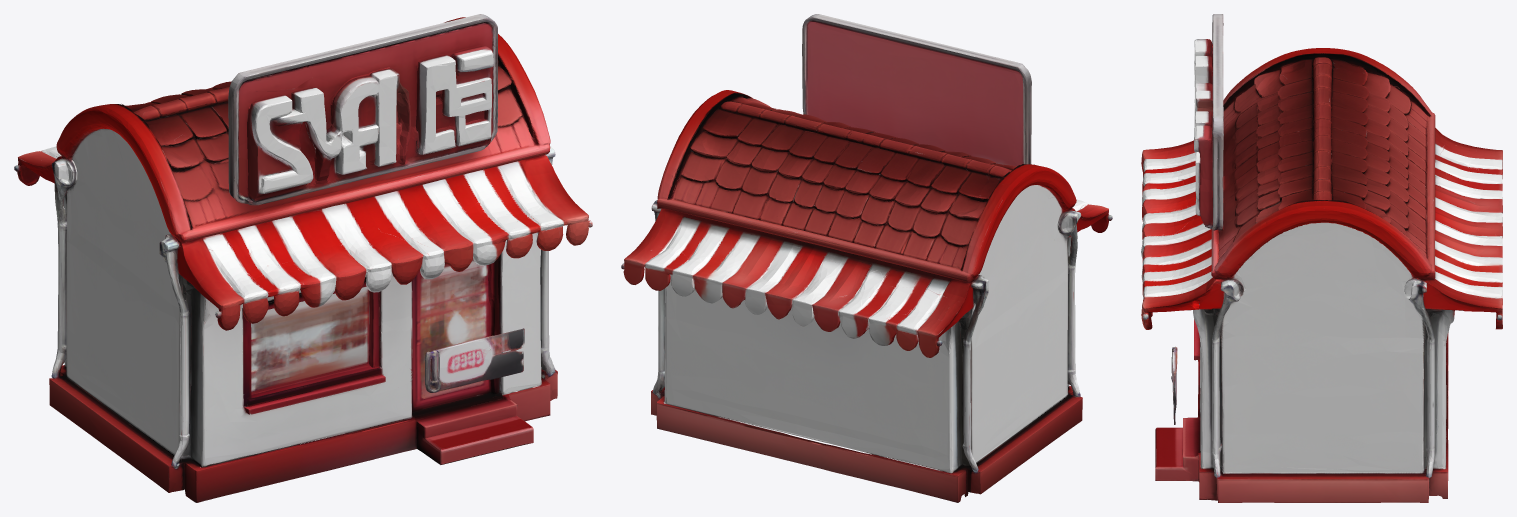
The model's file is store_3.glb.
3 views of the same model, side by side, from view 1: azimuth 30°, elevation 25°; view 2: azimuth 150°, elevation 25°; view 3: azimuth 270°, elevation 25° (orthographic). The views are drawn at different scales.
Visible parts, largest first — view 1: world; view 2: world; view 3: world.
Part boxes in pixels (<box>): world: <box>14,14,592,502</box>; world: <box>621,14,1112,502</box>; world: <box>1141,14,1502,502</box>.
Bounding box in the file's own units: 1 × 0.9992 × 0.9131.
1 material, 1 textured.
